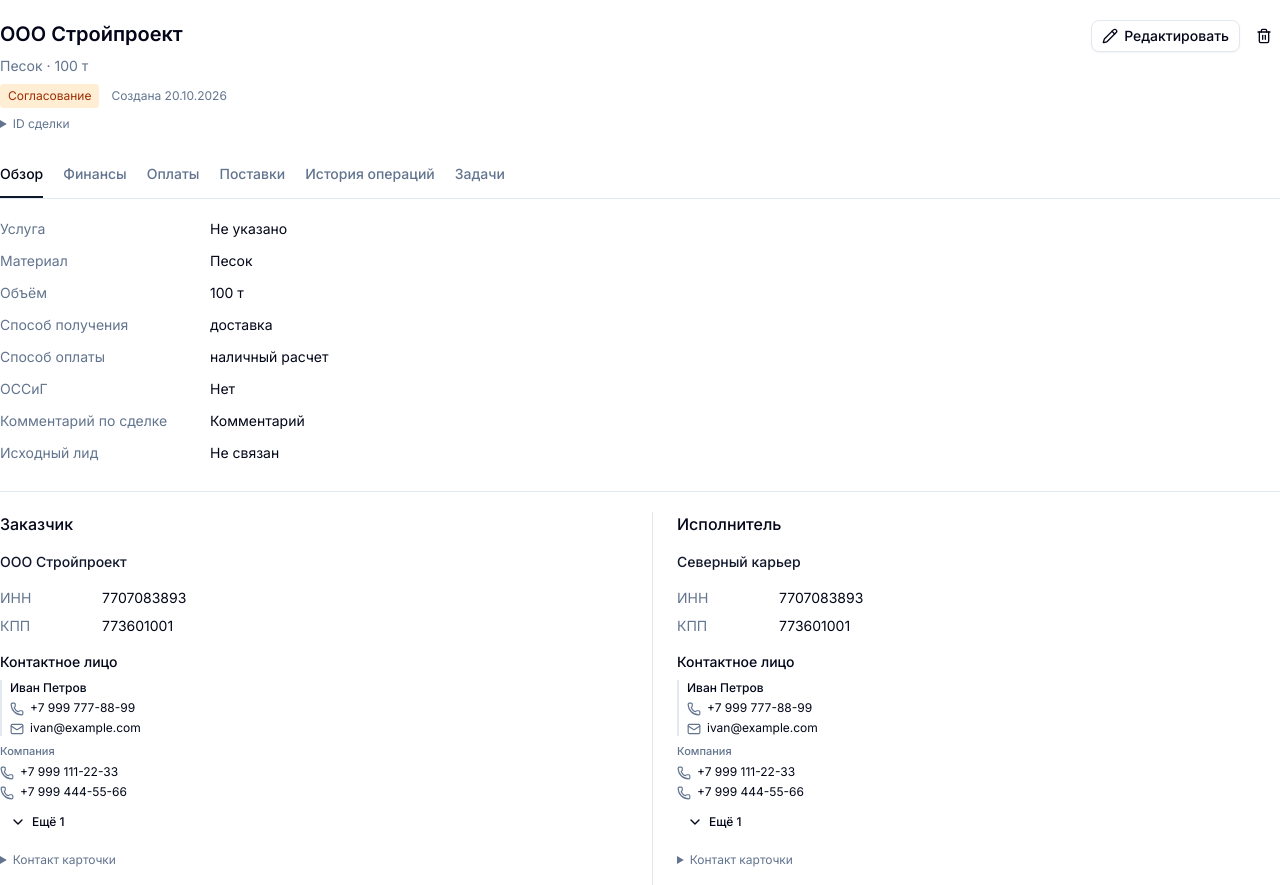
Test case: показывает ошибку удаления в карточке и сохраняет сделку на экране
Click the button named "Удалить сделку": click(1264, 36) [1248, 20, 1279, 52]
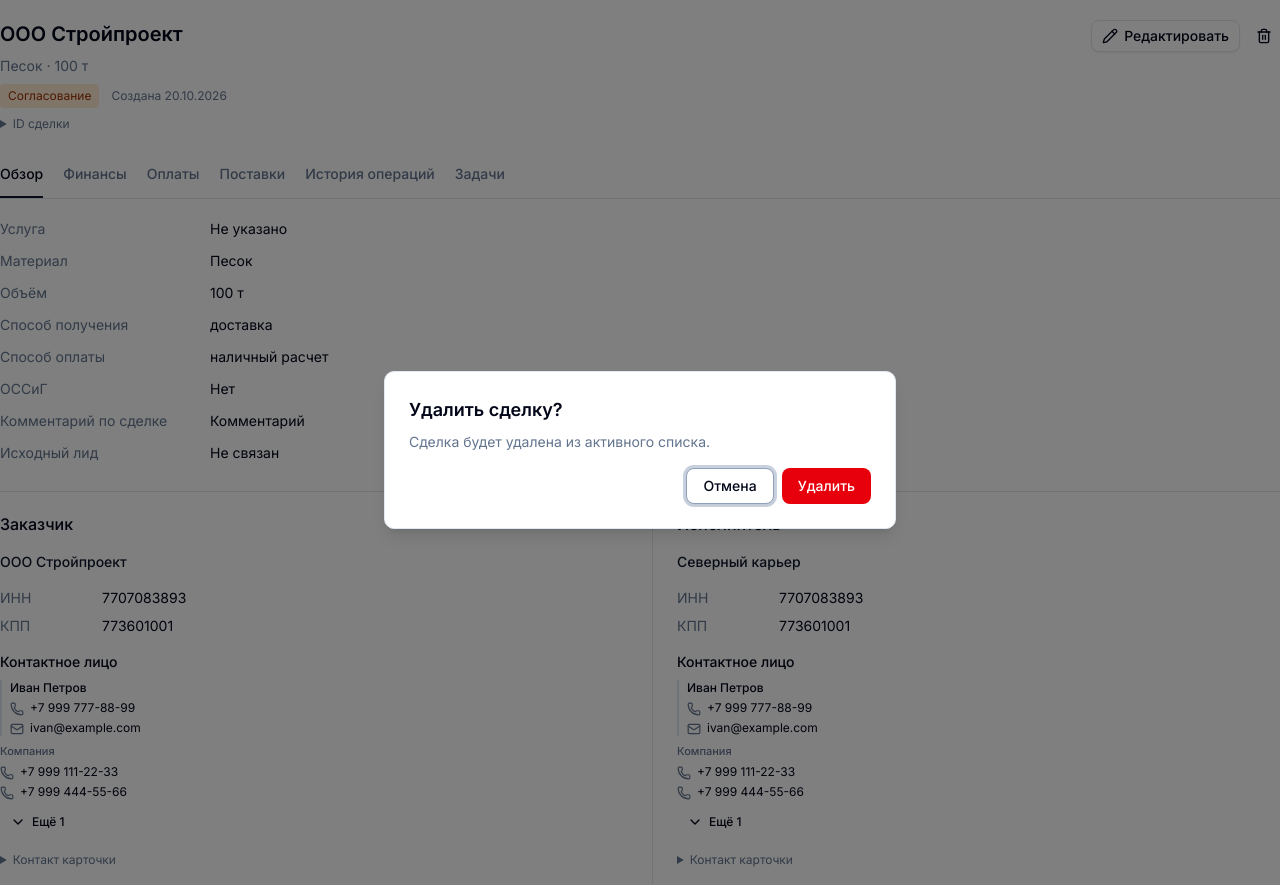
Click the button "Удалить": click(826, 486) [782, 468, 871, 504]
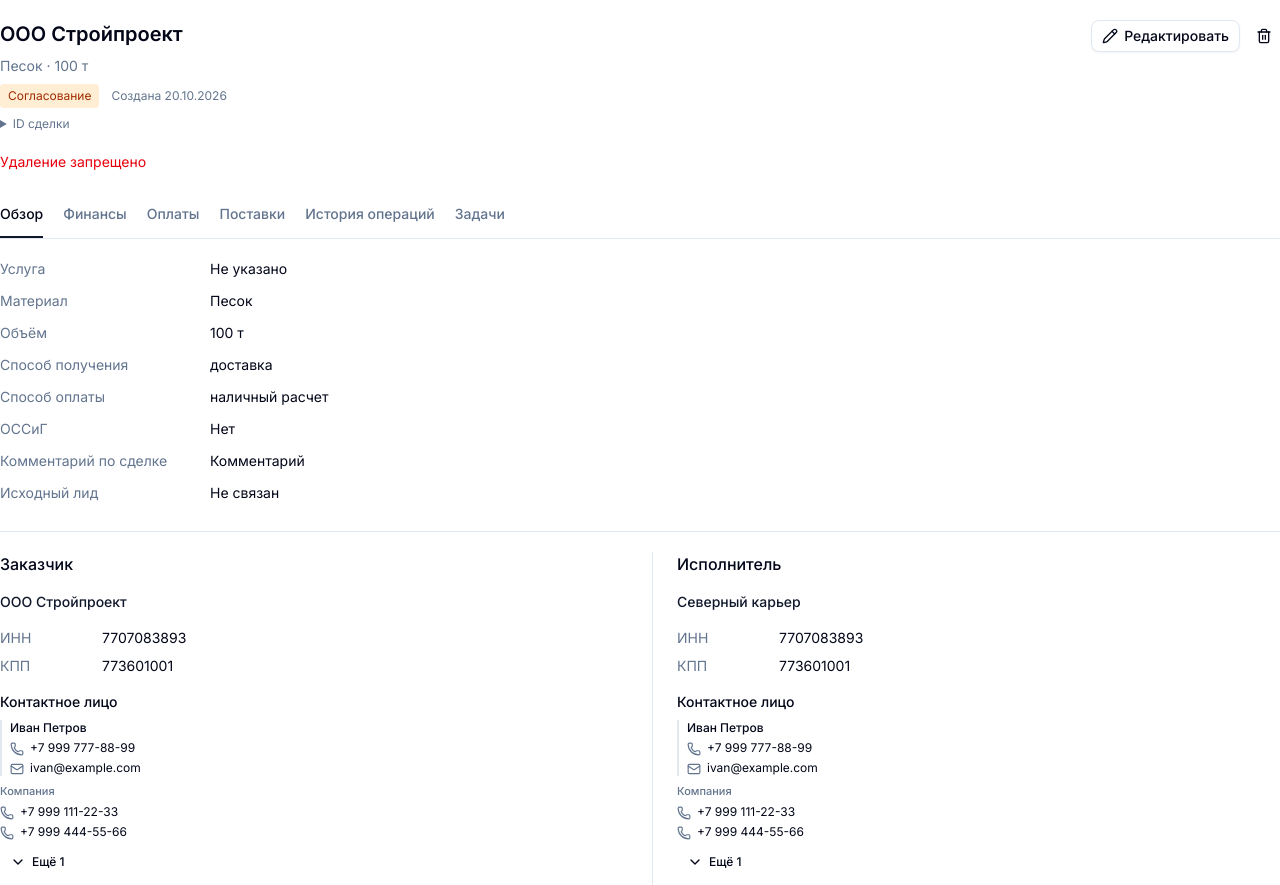
Expected: the heading "ООО Стройпроект" is shown, [0, 22, 183, 46]
Expected: the message reads "Удаление запрещено", [0, 153, 146, 170]
